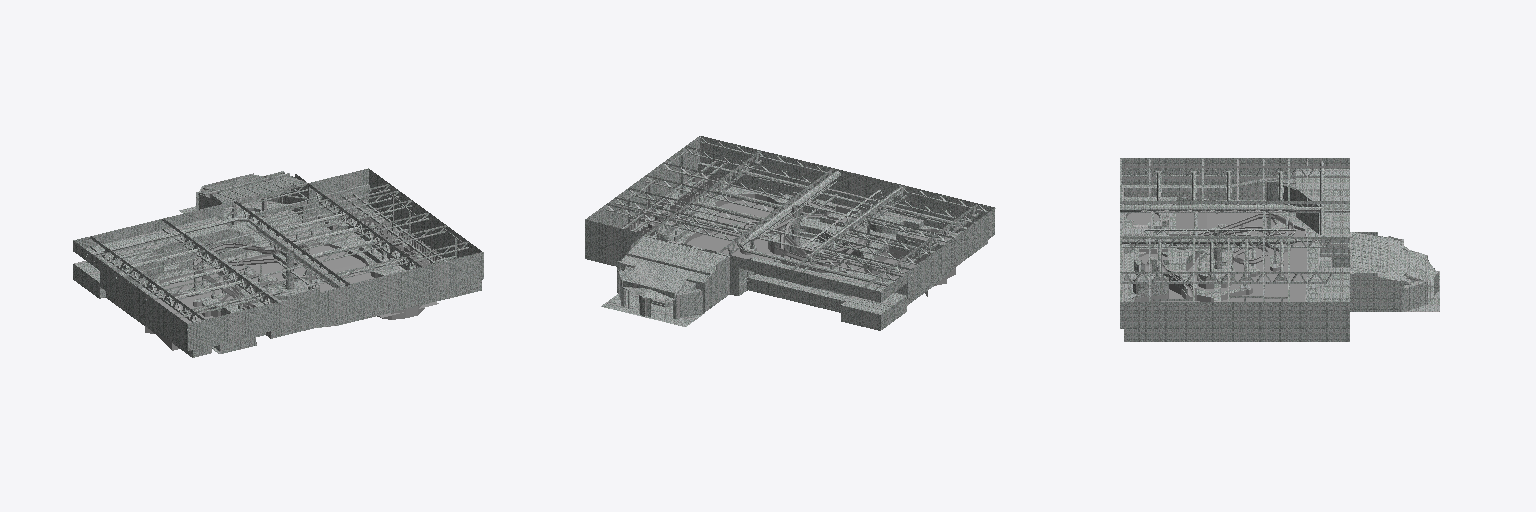
The picture shows the model from 3 angles: view 1: azimuth 30°, elevation 25°; view 2: azimuth 150°, elevation 25°; view 3: azimuth 270°, elevation 25°; orthographic projection.
Bounding box in the file's own units: 171 × 28.82 × 160.
6 materials, 1 textured.